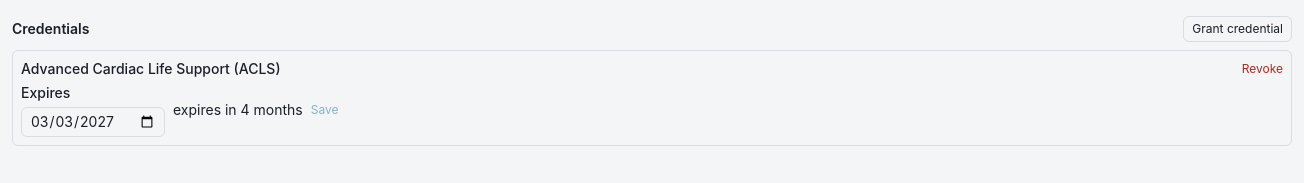
a nurse’s credentials › keeps the typed date and says so when the expiry could not be saved
In the date field labelled "Expires": (93, 122) [21,107,165,137], type "2028-03-03"
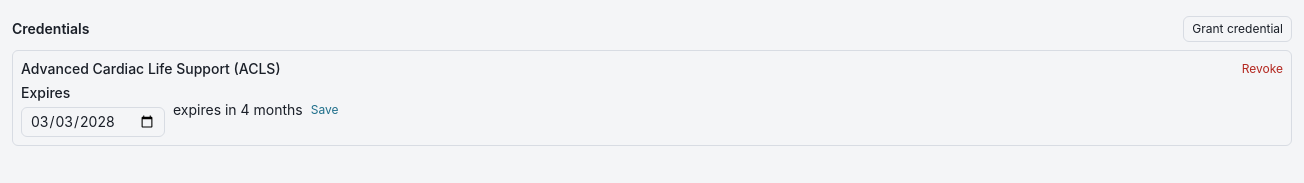
Click the button with aria-label "Save ACLS expiry": (325, 110) [311,102,339,118]
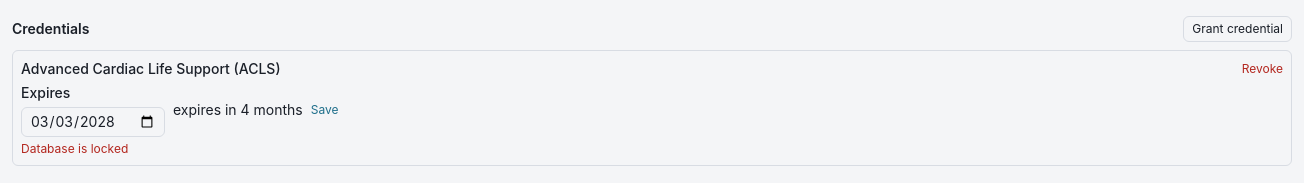
Check: the button with aria-label "Save ACLS expiry" is enabled, box [311,102,339,118]
Check: the text "Database is locked" is shown, box [21,141,128,156]
